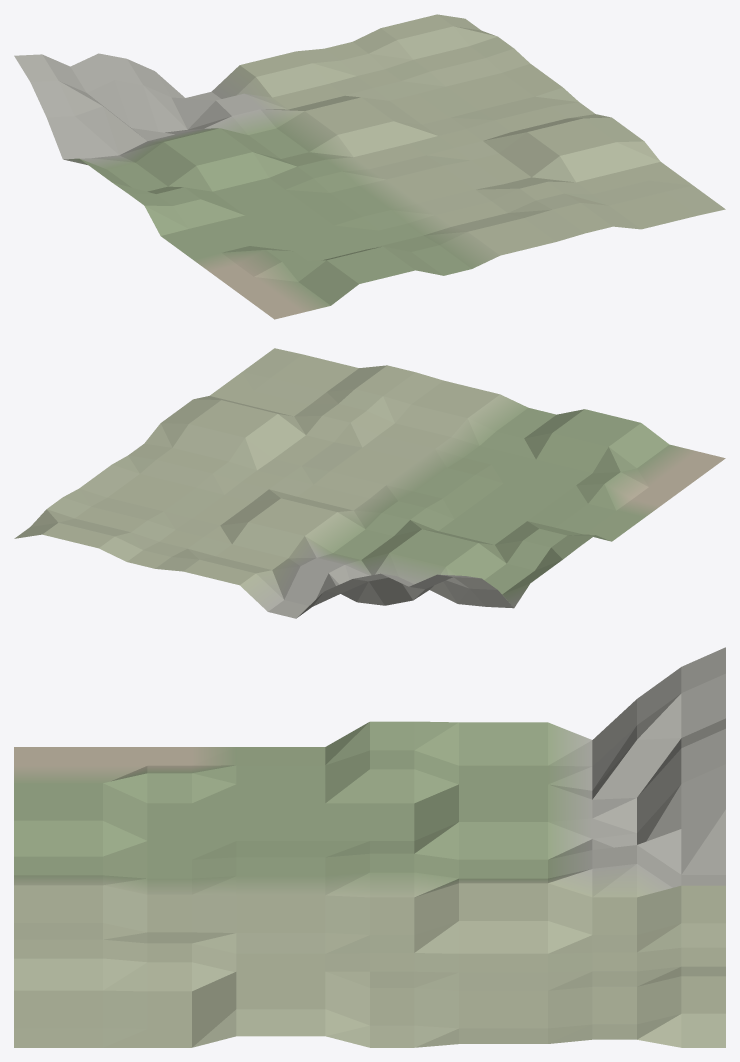
The picture shows the model from 3 angles, top to bottom: view 1: azimuth 30°, elevation 25°; view 2: azimuth 150°, elevation 25°; view 3: azimuth 270°, elevation 25°; orthographic projection. The views are drawn at different scales.
Size of the model in its own units: 32 by 5.73 by 32.
